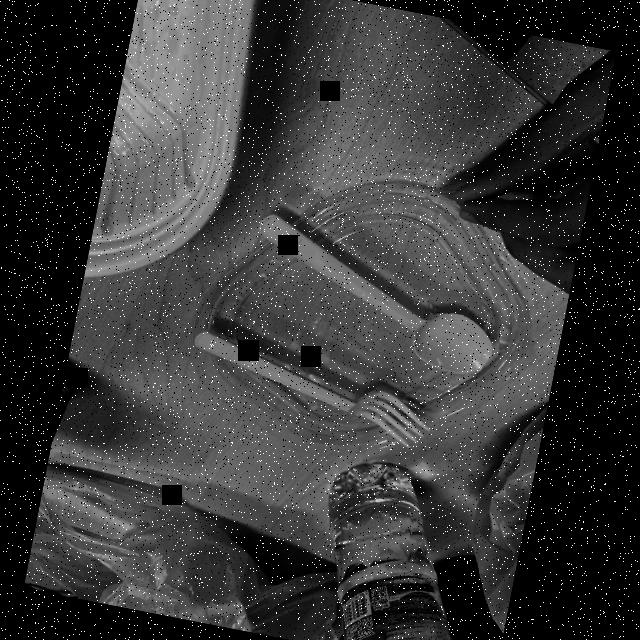plastic_spoon: (232, 192, 512, 398), (176, 318, 436, 456)
